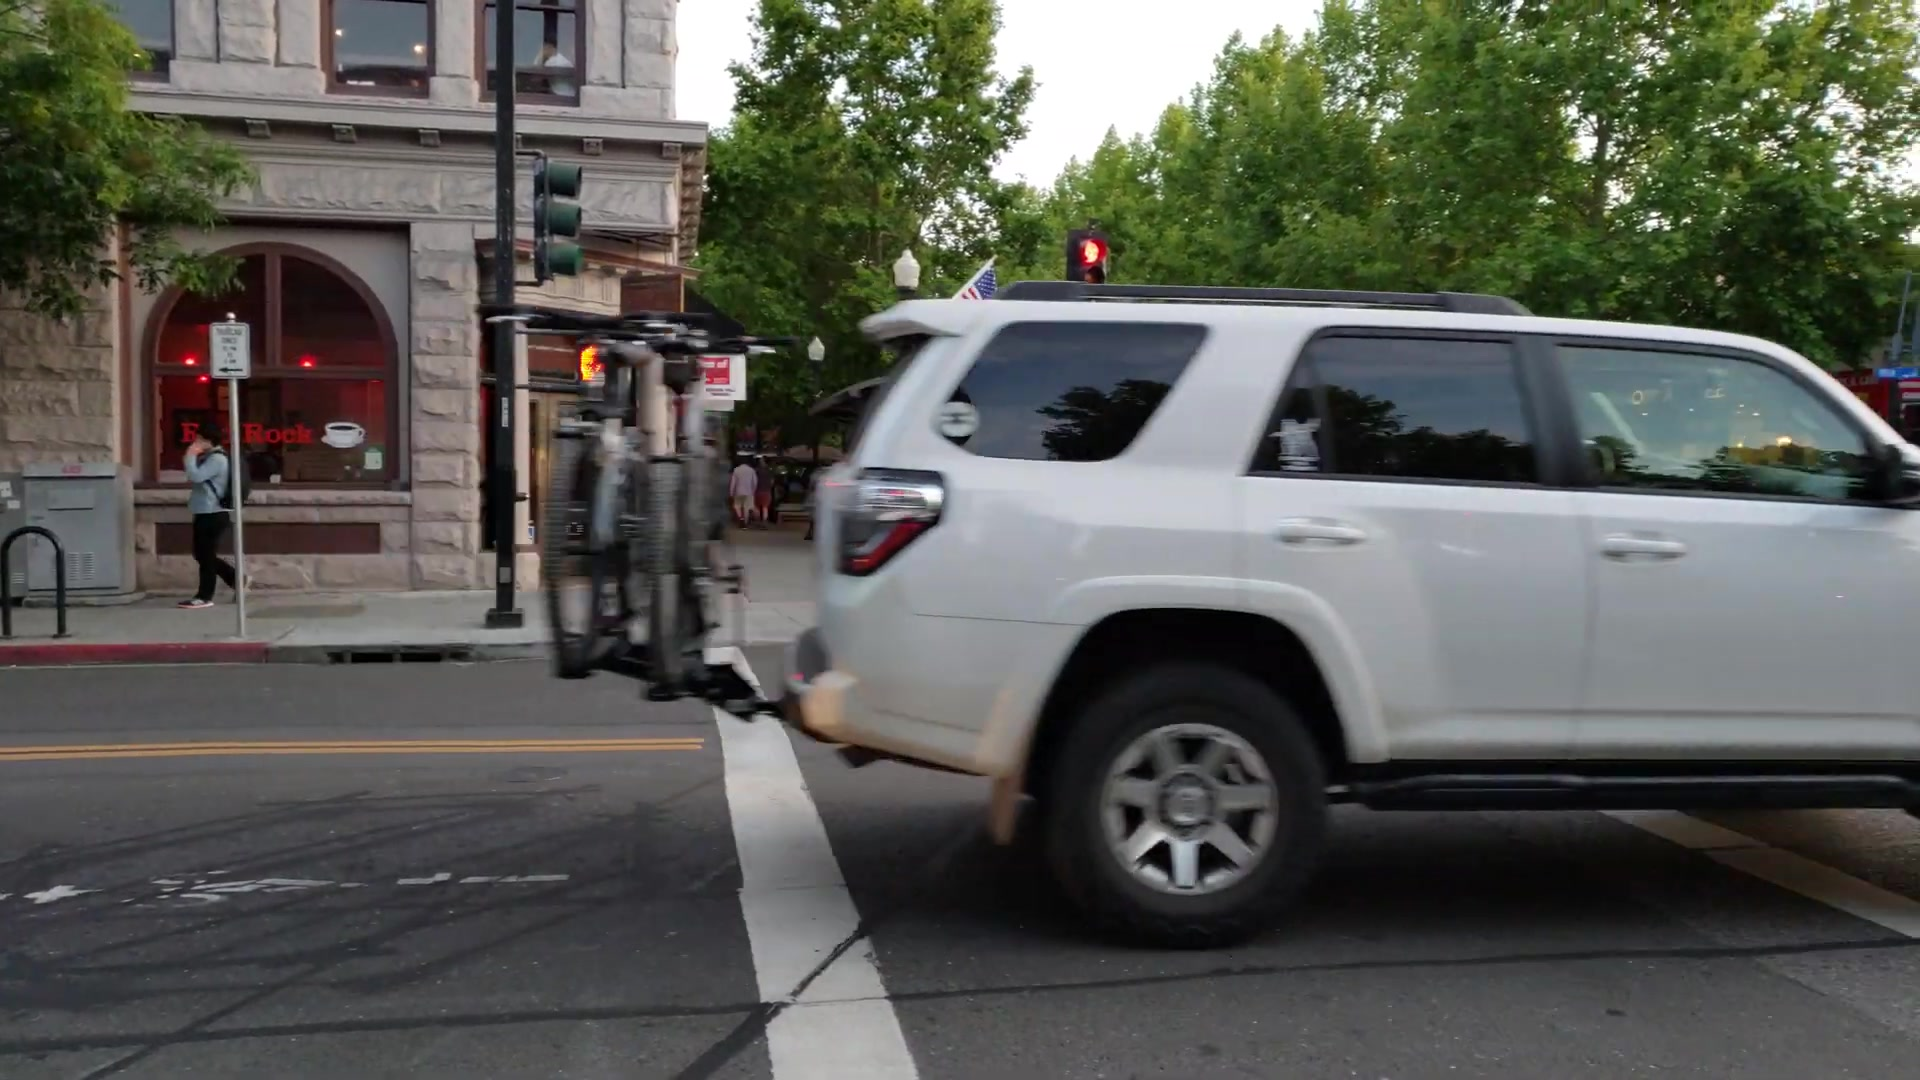vehicle: (812, 280, 1920, 944)
